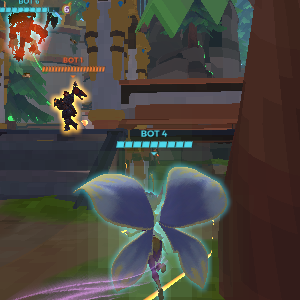model: (51, 83, 83, 136)
